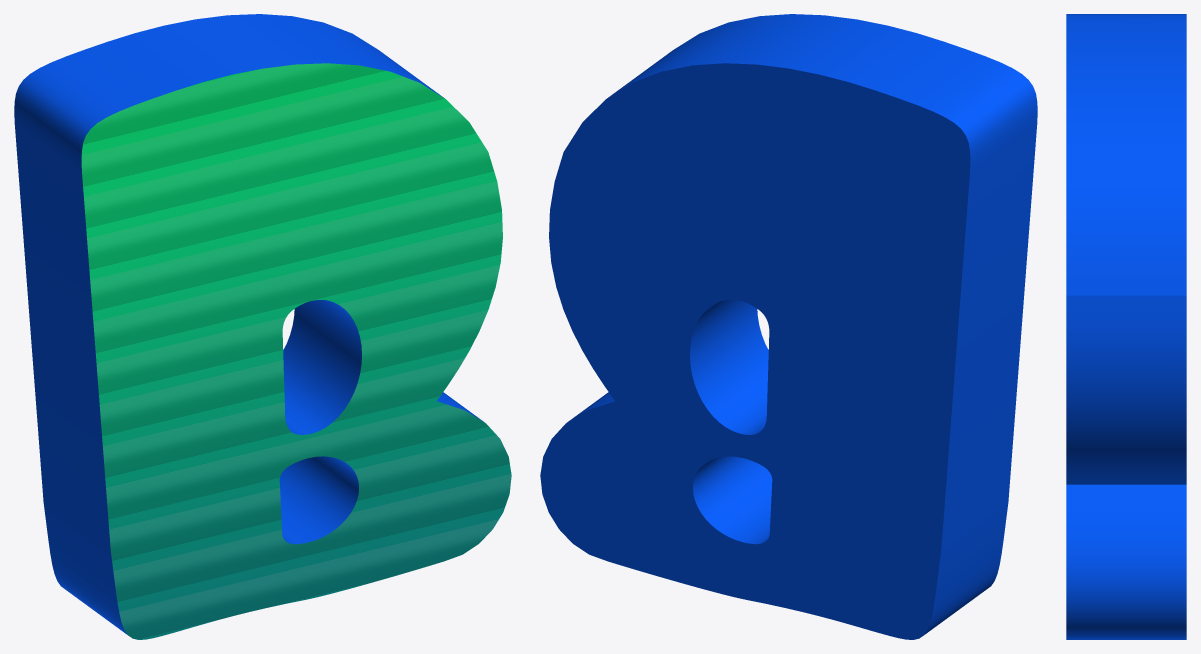
3 views of the same model, side by side, from view 1: azimuth 30°, elevation 25°; view 2: azimuth 150°, elevation 25°; view 3: azimuth 270°, elevation 25° (orthographic). The views are drawn at different scales.
Parts seen in each view (by area): view 1: B; view 2: B; view 3: B.
Boxes of the visible parts, bbox=[...] form: B: bbox=[14, 14, 511, 639]; B: bbox=[540, 14, 1037, 639]; B: bbox=[1066, 14, 1186, 639].
Bounding box in the file's own units: 73.8 × 89.26 × 20.
2 materials, 1 textured.
